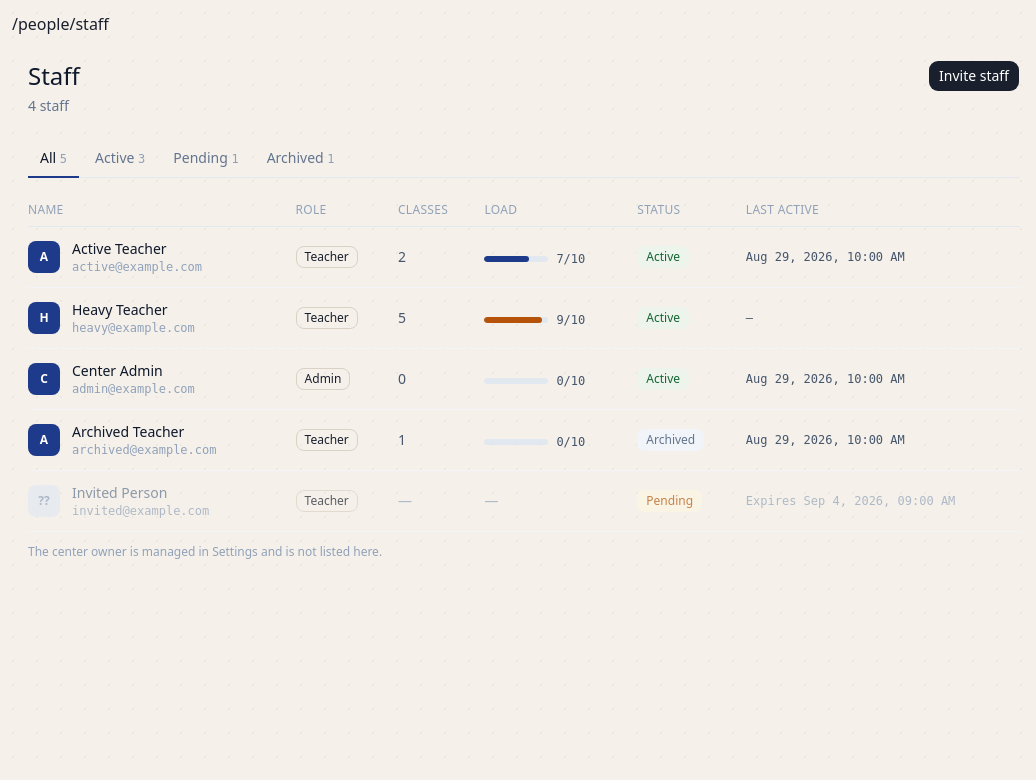
Test: StaffListPage — AC4 tabs + client-side counts › P1 Archived tab shows the archived member and NOT the active member (negative)
The width and height of the screenshot is (1036, 780).
expect the link "Active Teacher" is shown: met, box [72,239,167,258]
Click the tab "Archived 1".
click(301, 159)  # box [255,140,347,178]
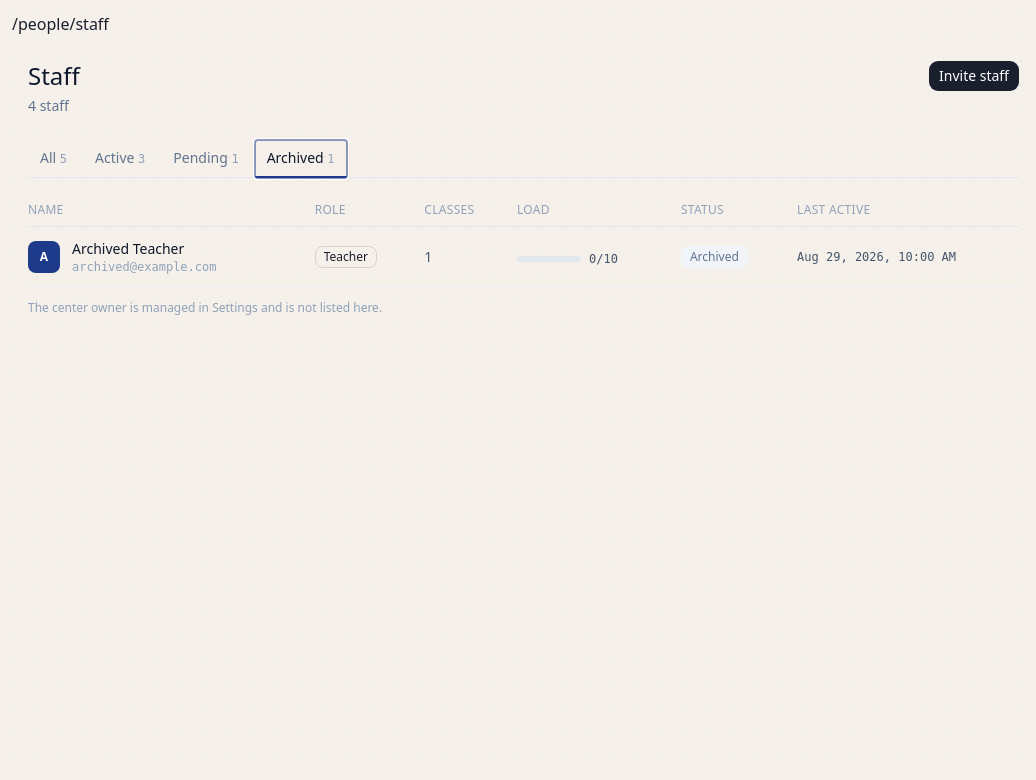
expect the link "Archived Teacher" is shown: met, box [72,239,184,258]
expect the link "Active Teacher" is gone: met
